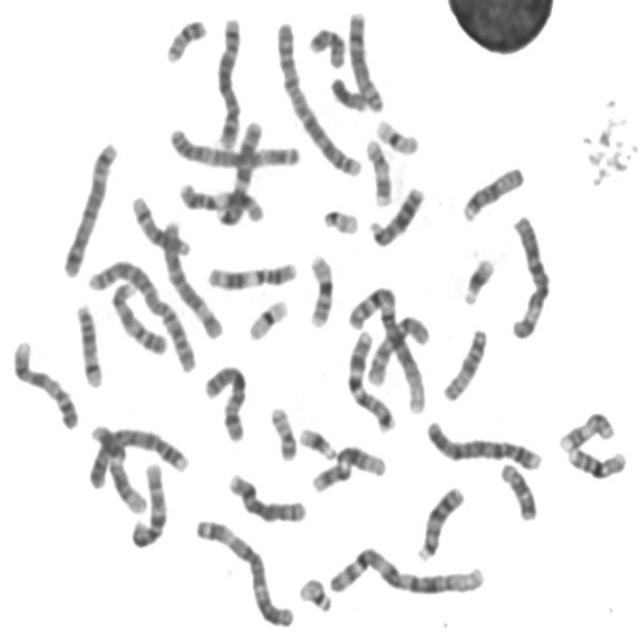A1: (342, 278, 429, 415), (322, 539, 488, 599)
A2: (270, 15, 363, 179), (82, 252, 200, 375)
A3: (188, 511, 298, 629), (163, 120, 302, 170)
B4: (82, 420, 191, 490), (420, 412, 545, 473)
B5: (57, 133, 121, 280), (209, 9, 245, 150)
C10: (362, 308, 433, 388), (126, 455, 169, 550)
C11: (173, 174, 266, 224), (201, 255, 300, 292)
C12: (84, 416, 149, 515), (305, 436, 388, 495)
C6: (156, 213, 226, 341), (504, 208, 553, 341)
C7: (341, 322, 398, 433), (212, 113, 265, 226)
C8: (222, 465, 309, 526), (342, 2, 386, 113)
C9: (6, 334, 81, 431), (105, 271, 171, 357)
D13: (411, 478, 467, 564), (363, 178, 426, 249)
D14: (125, 188, 193, 258), (70, 296, 105, 390)
D15: (456, 159, 527, 224), (437, 321, 489, 404)
E16: (302, 247, 336, 328), (561, 440, 629, 480)
E17: (553, 405, 617, 453), (360, 131, 394, 208)
E18: (494, 456, 539, 522), (303, 19, 348, 70)
F19: (242, 292, 290, 342), (370, 111, 421, 157)
F20: (160, 10, 210, 64), (264, 398, 298, 463)
G21: (457, 249, 498, 306), (293, 419, 339, 462)
G22: (293, 570, 334, 615), (317, 200, 362, 237)
X: (198, 357, 250, 444)
Y: (324, 69, 370, 113)
